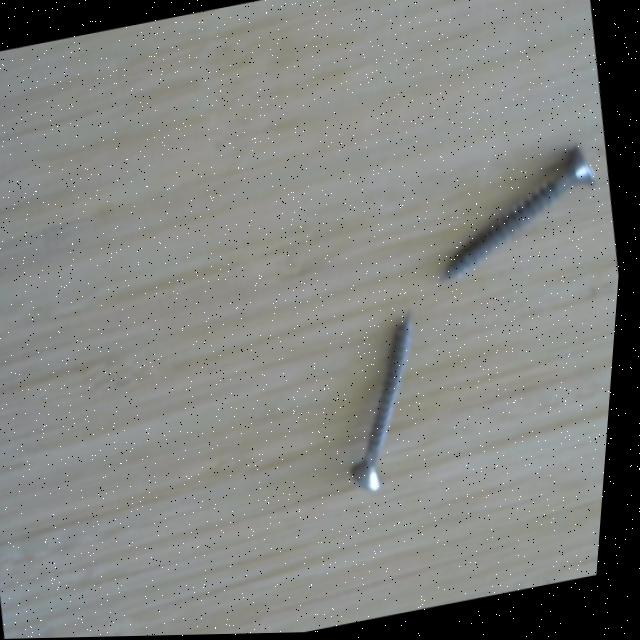Black screw: (428, 136, 621, 286), (324, 302, 455, 501)
